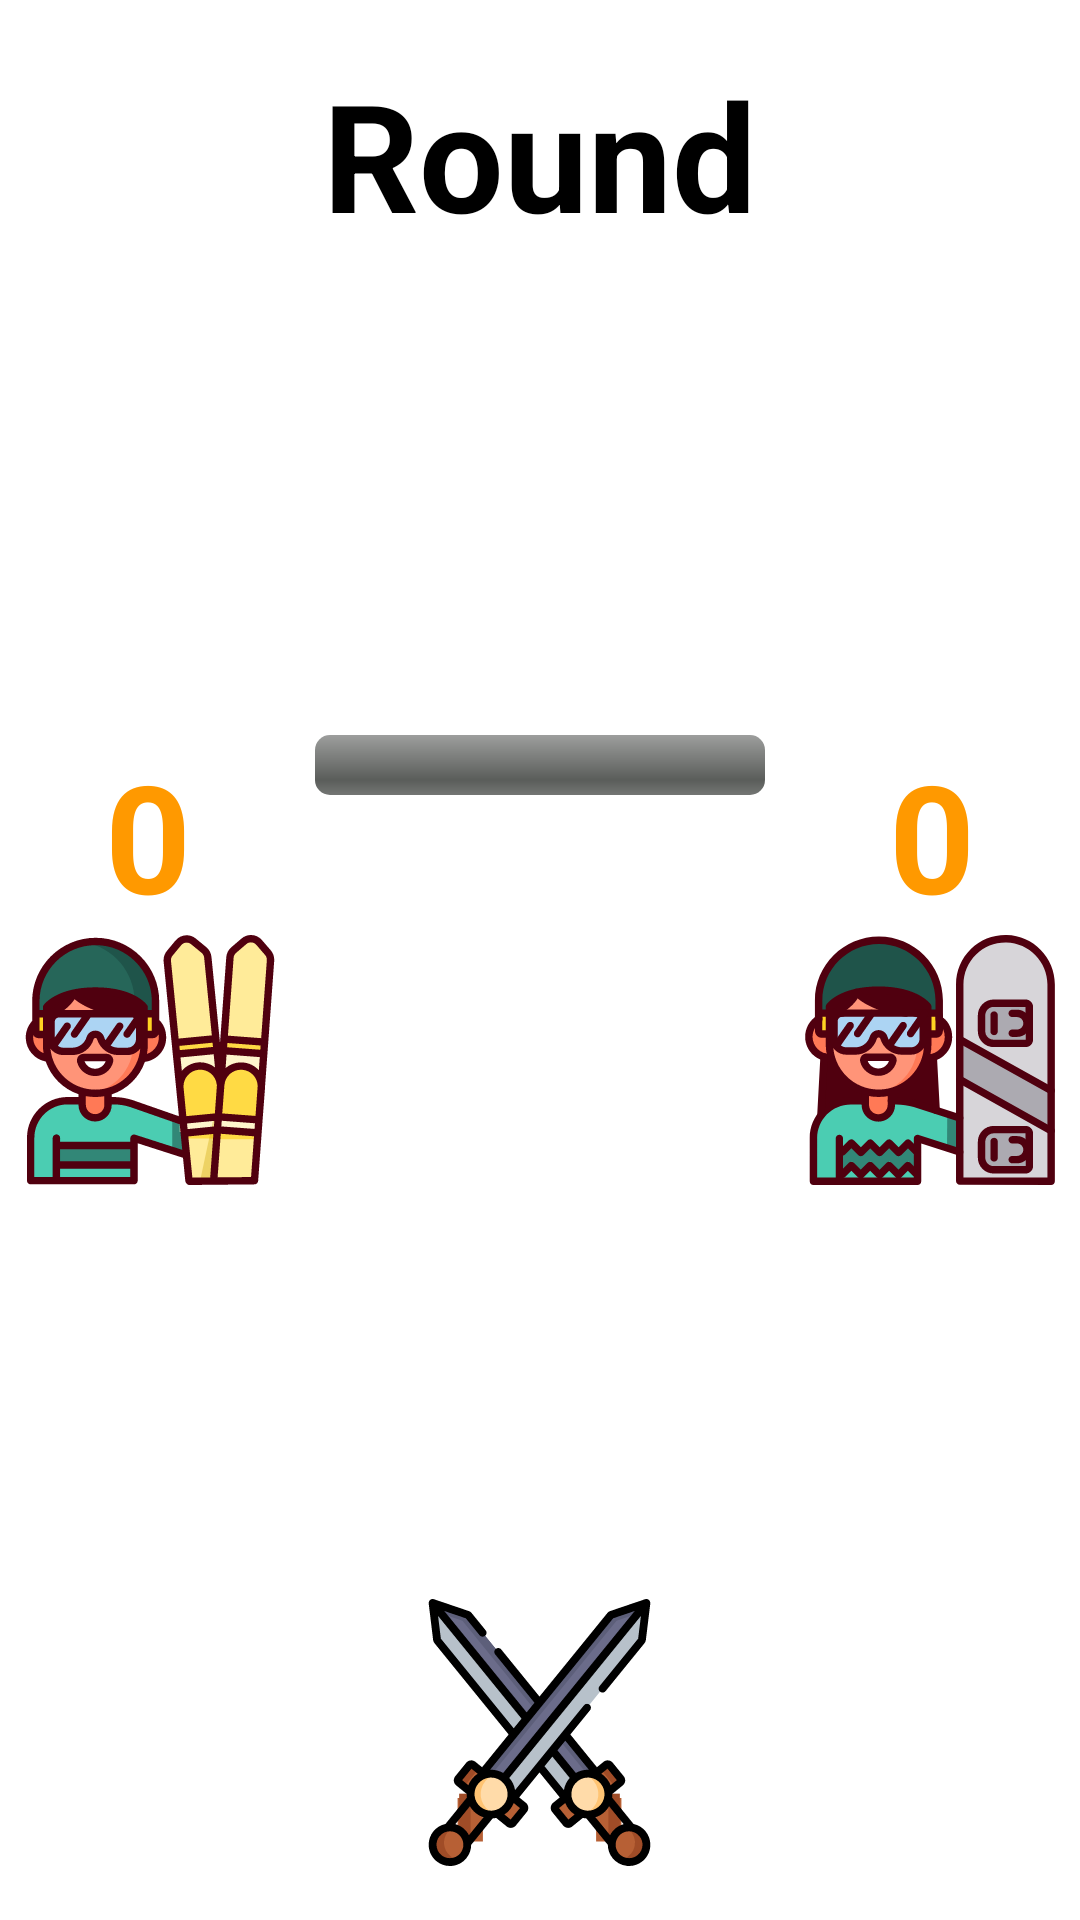

Screen size 1080px x 1920px. Icon name, then its box in pixels as box=[x1, y1, x2, y2]:
skier: box=[25, 935, 275, 1185]
snowboarder: box=[805, 935, 1055, 1185]
swords: box=[428, 1599, 651, 1866]
